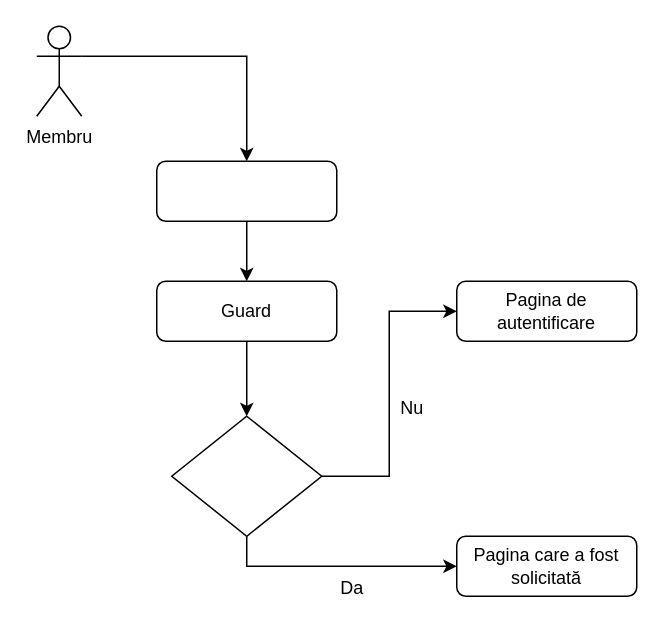
The diagram is 663 pixels wide and 638 high, and some of its shapes have lost their labels. Here are the shapes that lost their labels. From the top down, the centre of each, then its label:
pixel 246 190: Angular Router
pixel 246 475: Este utilizatorul autentificat?
